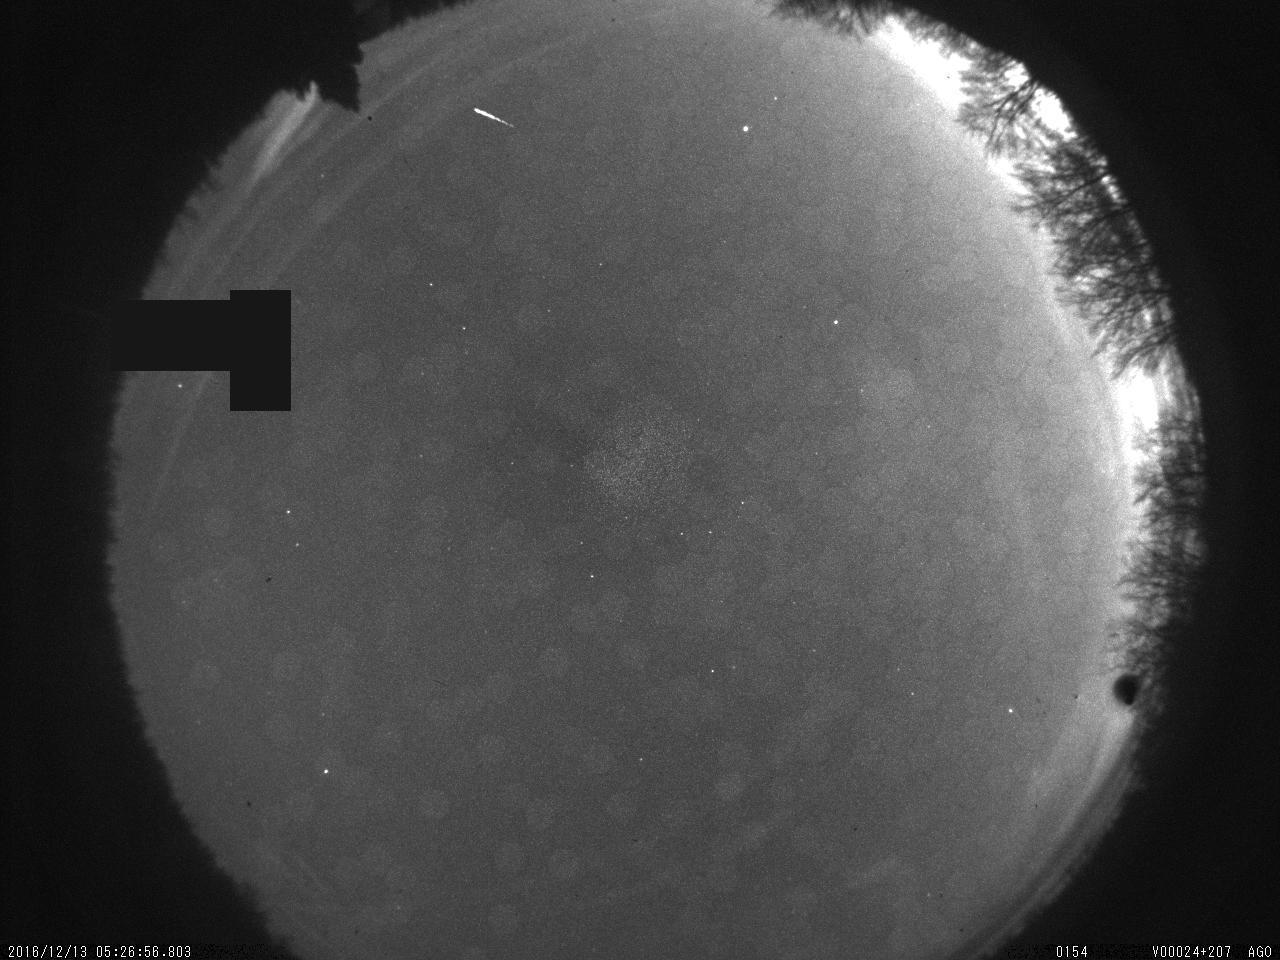meteor: (455, 90, 532, 146)
